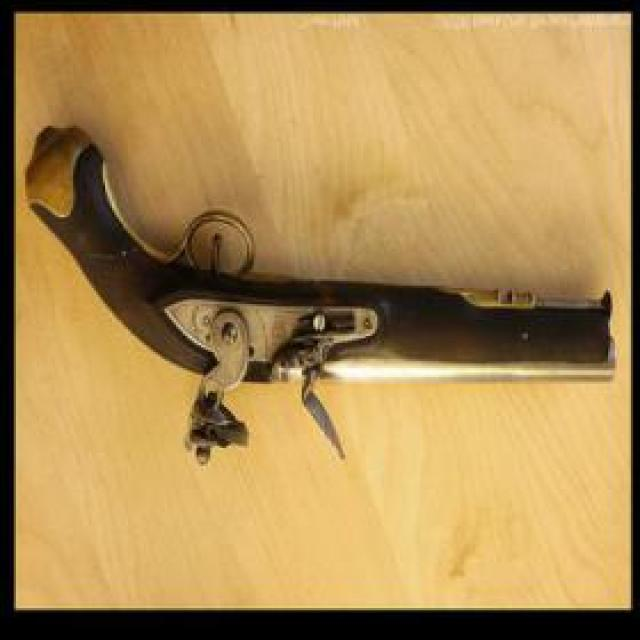pistol: (25, 124, 617, 471)
